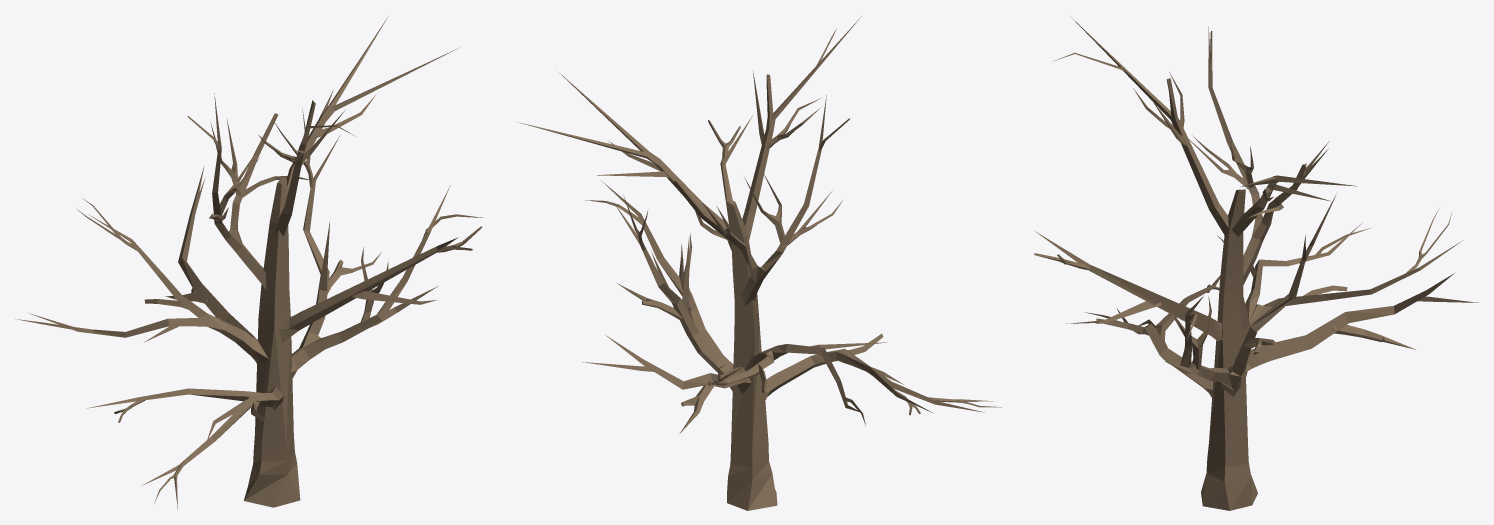
File: tree_bare_a_10.FBX
3 views of the same model, side by side, from view 1: azimuth 30°, elevation 25°; view 2: azimuth 150°, elevation 25°; view 3: azimuth 270°, elevation 25° (orthographic). The views are drawn at different scales.
Parts seen in each view (by area): view 1: tree_bare_a_10; view 2: tree_bare_a_10; view 3: tree_bare_a_10.
Part boxes in pixels (x1,y1,x2,y2): tree_bare_a_10: (15, 16, 483, 509); tree_bare_a_10: (518, 16, 1001, 510); tree_bare_a_10: (1034, 16, 1478, 510).
Bounding box in the file's own units: 4.58 × 5.11 × 4.45.
